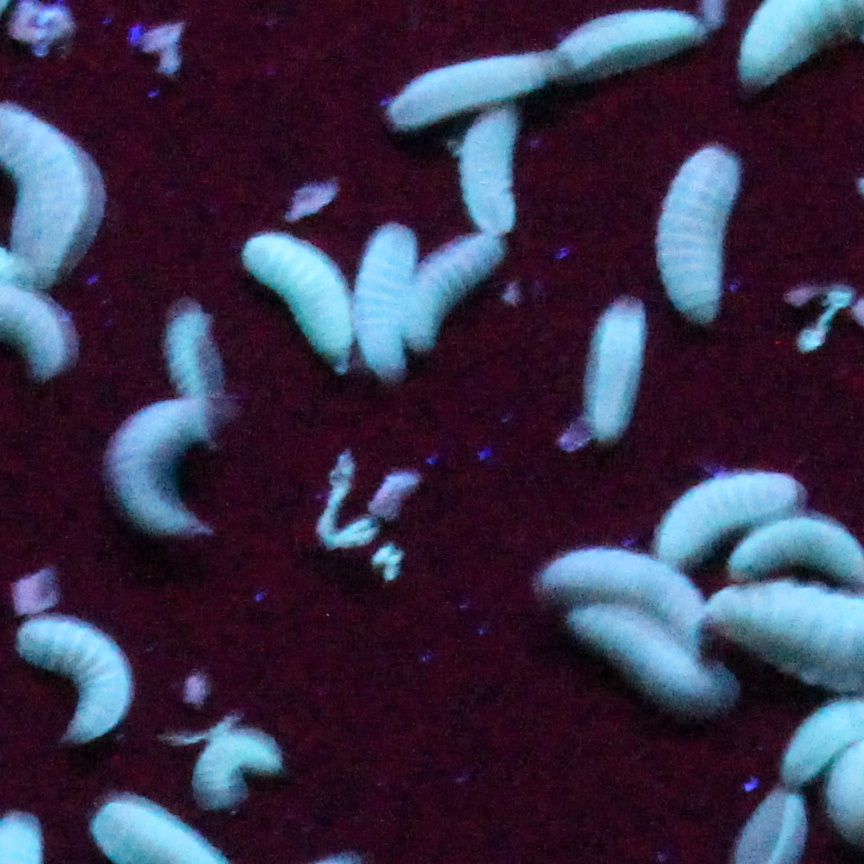larve: (568, 612, 721, 714), (105, 406, 214, 540), (239, 237, 352, 364), (660, 144, 737, 328), (18, 613, 128, 736), (381, 47, 546, 113), (358, 225, 415, 380), (650, 470, 797, 529), (585, 304, 646, 437), (419, 237, 497, 341), (554, 20, 703, 73), (544, 553, 699, 603), (744, 526, 863, 579), (163, 300, 222, 406), (193, 726, 278, 799), (467, 116, 518, 229)
